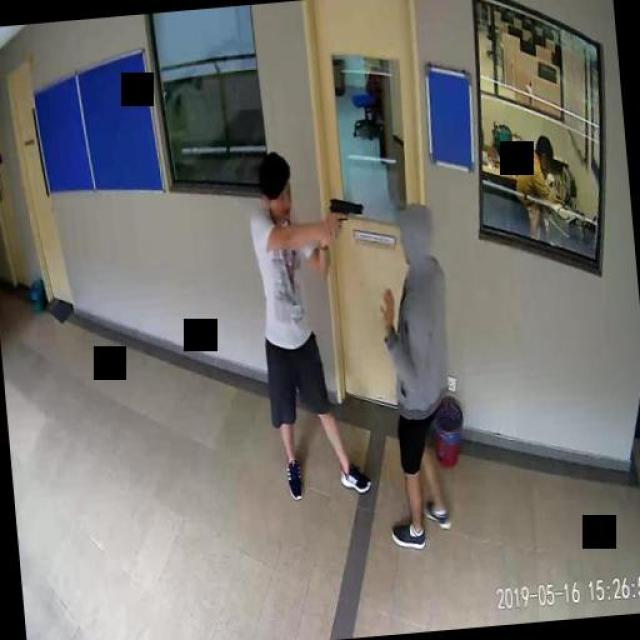gun: (321, 192, 371, 242)
